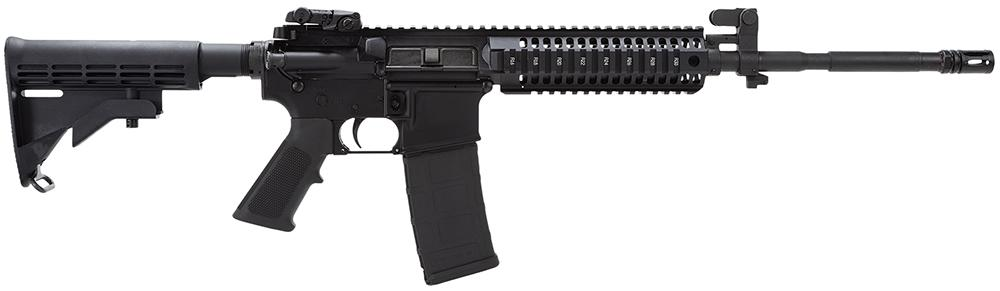m4_carbine: (261, 26, 493, 291)
